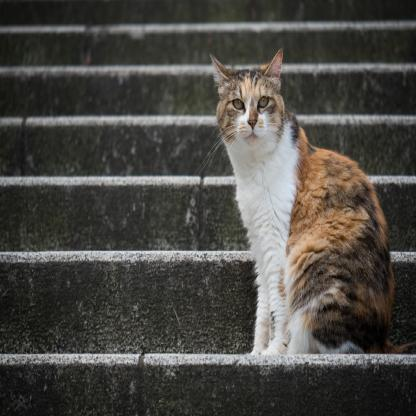cat: (202, 63, 396, 361)
